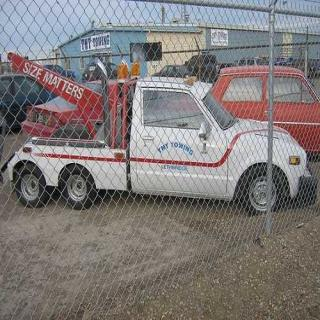Towing_truck: (2, 66, 316, 216), (206, 63, 319, 160)
